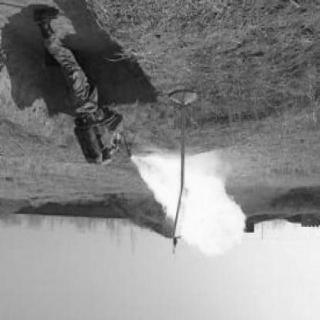Fire: (132, 151, 254, 267)
